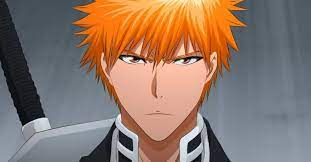Ichigo: (101, 1, 208, 143)
